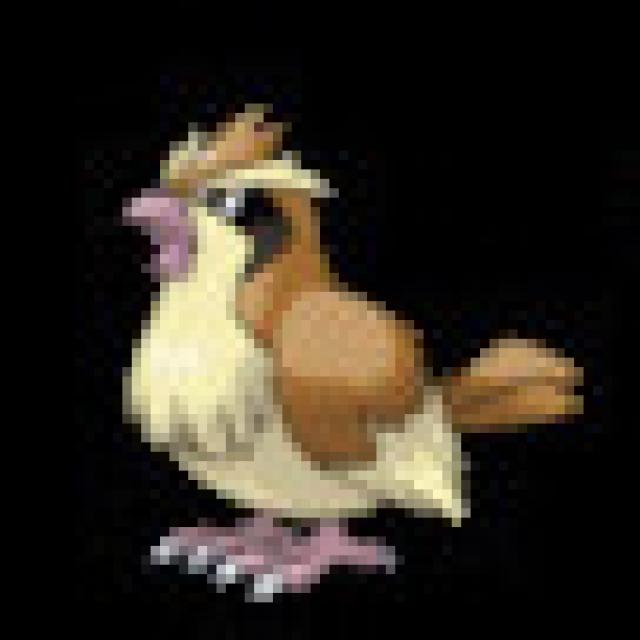Pidgey: (114, 116, 496, 584)
